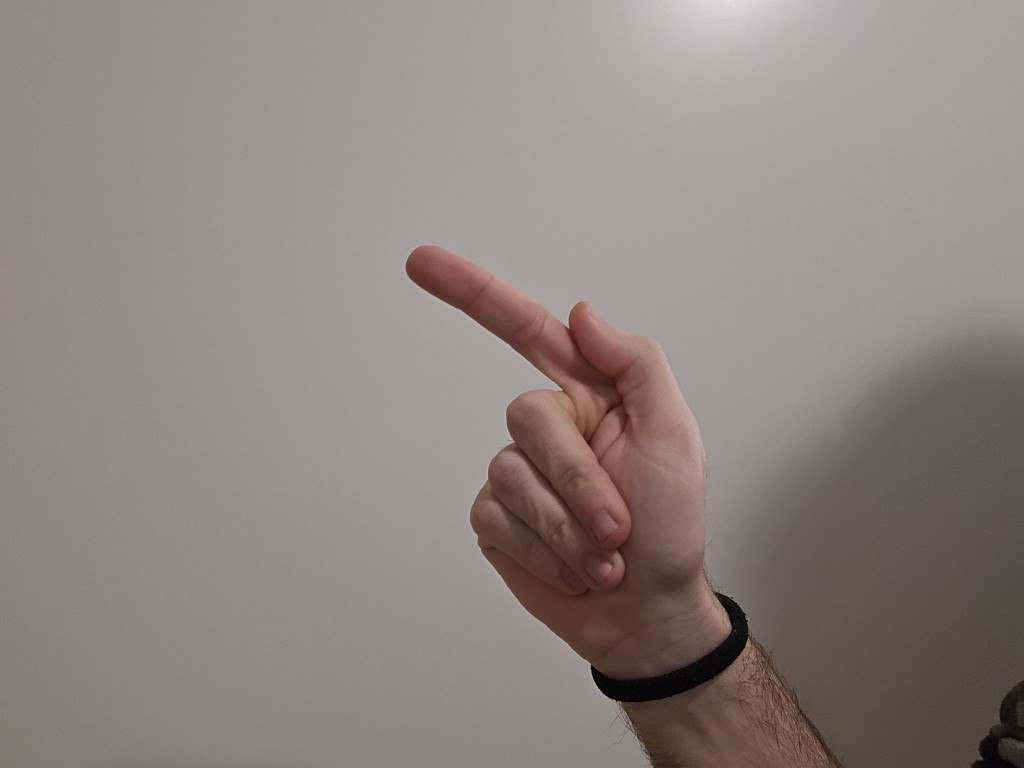g: (374, 212, 720, 647)
